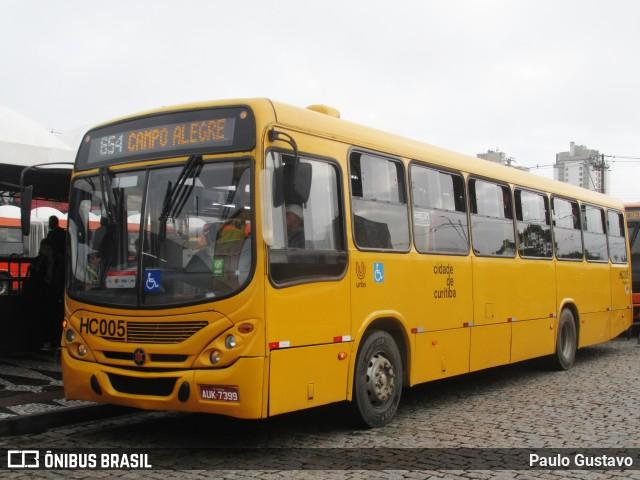CAMPO ALEGRE: (125, 115, 229, 155)
